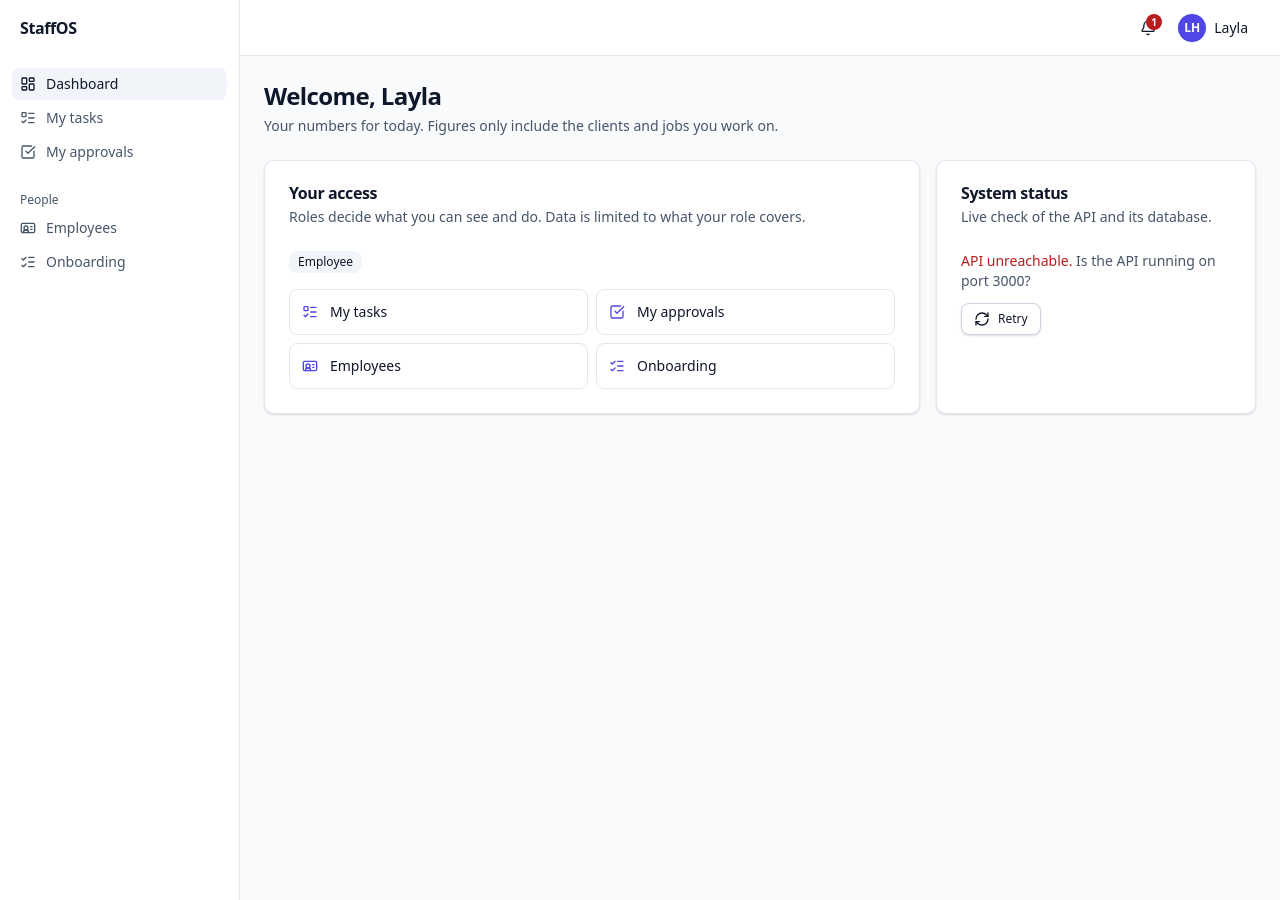
Test case: employee self-service › shows unread notifications in the bell and opens the linked page
Step 1. Click the button named "Notifications, 1 unread" → (1148, 28), box [1130,10,1166,46]
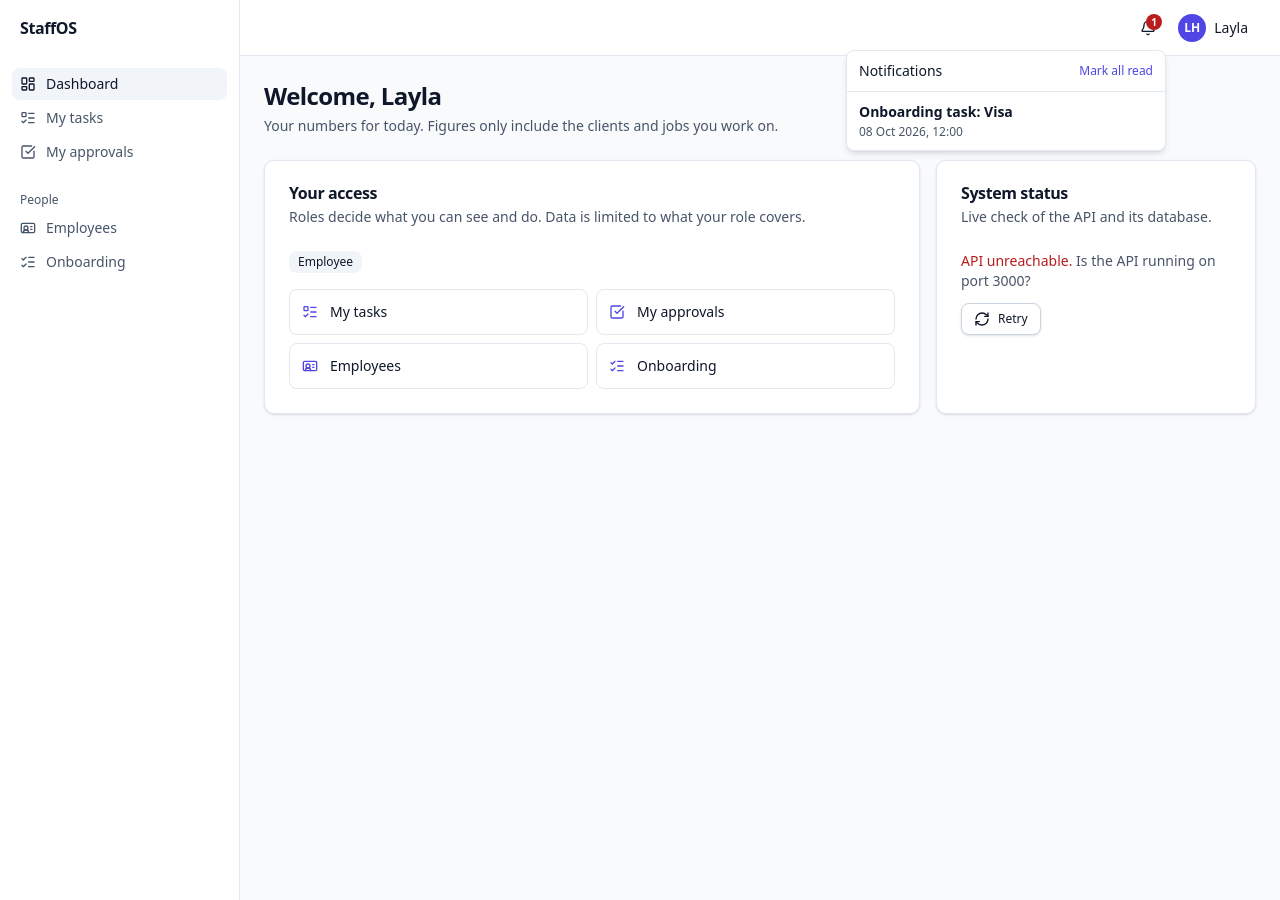
Step 2. Click the menu item "Onboarding task: Visa 08 Oct 2026, 12:00" → (935, 120), box [858,101,1013,140]
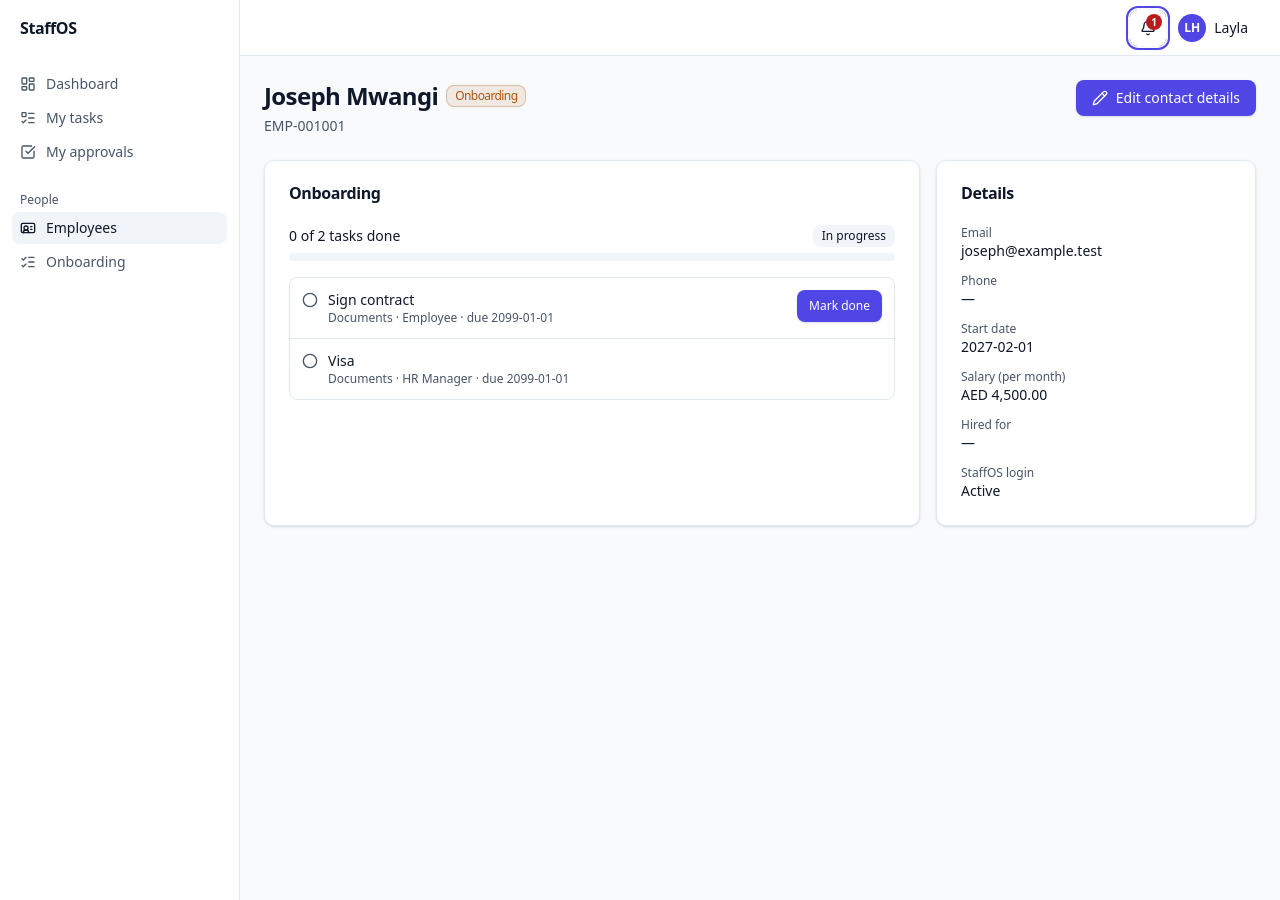
Result: the heading "Joseph Mwangi Onboarding" is shown at [264,80,526,112]
